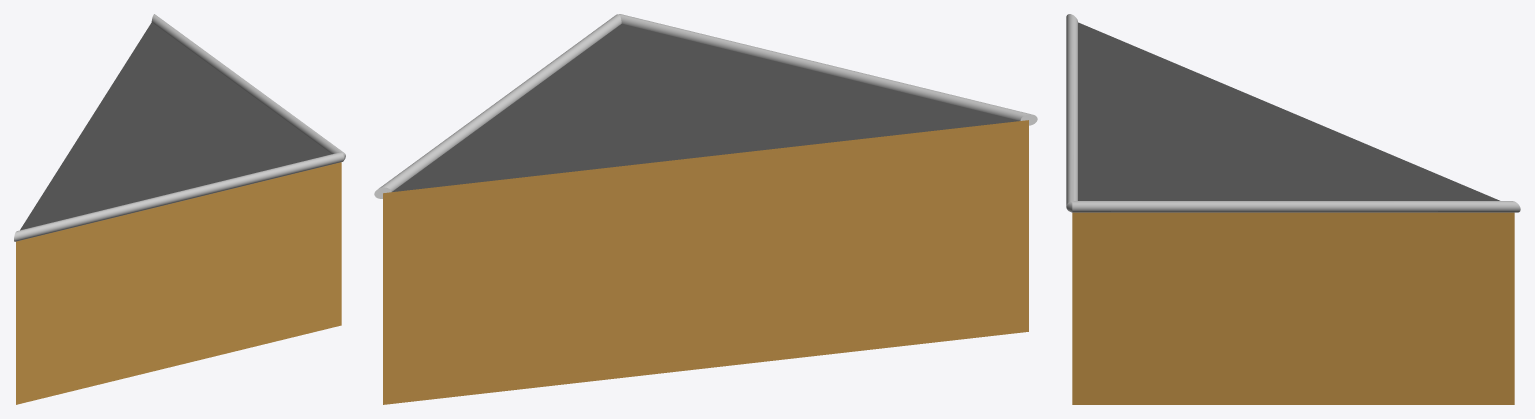
The model's file is Skate_Box_Corner_Double_Rail_01.FBX.
3 renders of one model, left to right at view 1: azimuth 30°, elevation 25°; view 2: azimuth 150°, elevation 25°; view 3: azimuth 270°, elevation 25°, orthographic. The views are drawn at different scales.
Parts seen in each view (by area): view 1: Skate_Box_Corner_Double_Rail_01; view 2: Skate_Box_Corner_Double_Rail_01; view 3: Skate_Box_Corner_Double_Rail_01.
Boxes of the visible parts, bbox=[...] form: Skate_Box_Corner_Double_Rail_01: bbox=[14, 14, 345, 404]; Skate_Box_Corner_Double_Rail_01: bbox=[374, 14, 1037, 404]; Skate_Box_Corner_Double_Rail_01: bbox=[1066, 14, 1520, 404].
Bounding box in the file's own units: 3.08 × 1.52 × 3.08.
